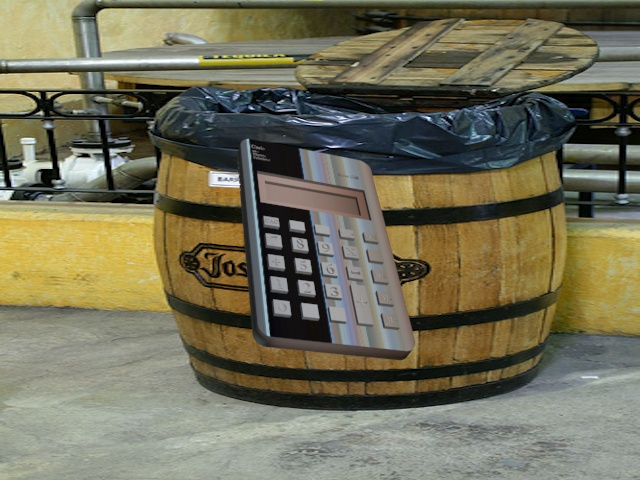calculator: (233, 129, 417, 368)
